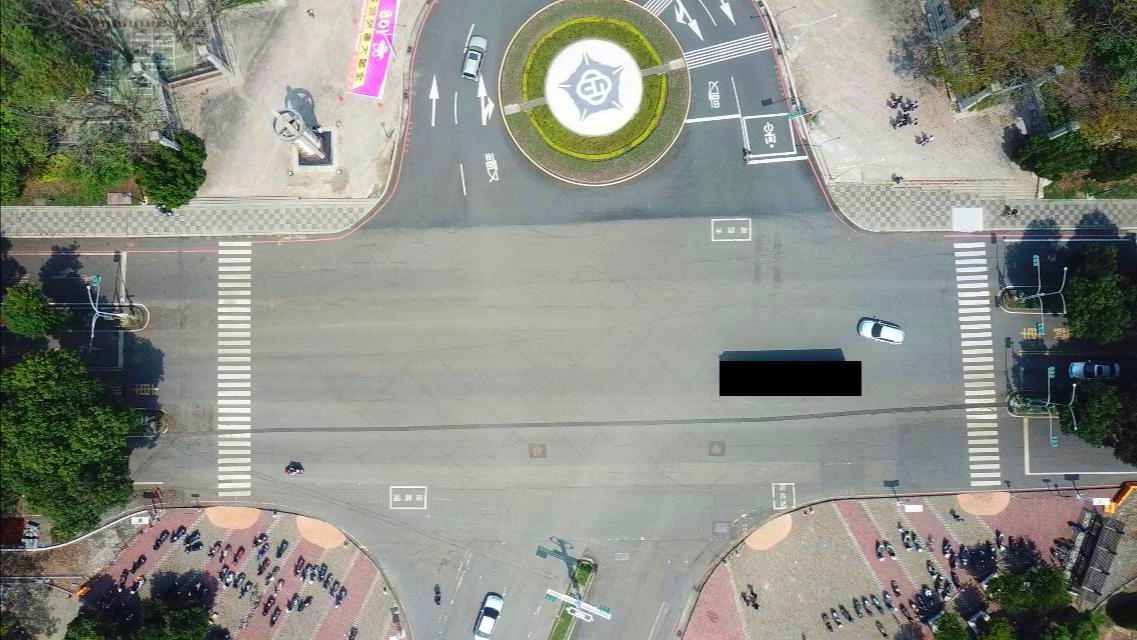vehicle: (1059, 356, 1122, 385), (857, 317, 910, 348), (472, 593, 505, 639), (462, 33, 489, 82)
